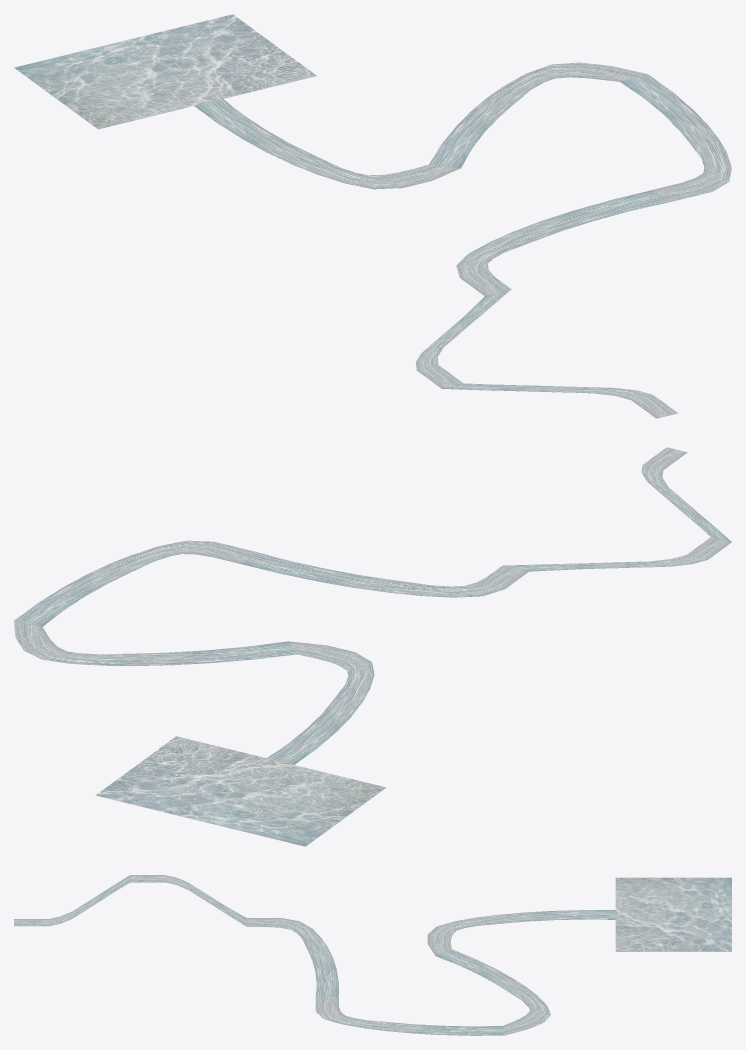
Rendered from river_2.fbx.
The picture shows the model from 3 angles, top to bottom: view 1: azimuth 30°, elevation 25°; view 2: azimuth 150°, elevation 25°; view 3: azimuth 270°, elevation 25°; orthographic projection. The views are drawn at different scales.
Visible parts, largest first — view 1: Box007, Box006, Box005, Box004, Box003, Box001, Box002; view 2: Box007, Box005, Box006, Box004, Box003, Box002, Box001; view 3: Box007, Box006, Box005, Box004, Box003, Box002, Box001.
Part boxes in pixels (left/top/right/bottom): Box007: left=14, top=14, right=316, bottom=129; Box006: left=194, top=99, right=460, bottom=189; Box005: left=429, top=62, right=647, bottom=168; Box004: left=620, top=74, right=731, bottom=202; Box003: left=456, top=190, right=668, bottom=295; Box001: left=443, top=383, right=677, bottom=418; Box002: left=415, top=290, right=510, bottom=388; Box007: left=95, top=736, right=386, bottom=846; Box005: left=14, top=620, right=296, bottom=665; Box006: left=267, top=641, right=374, bottom=764; Box004: left=14, top=540, right=255, bottom=626; Box003: left=240, top=552, right=528, bottom=597; Box002: left=505, top=537, right=731, bottom=571; Box001: left=641, top=447, right=731, bottom=541; Box007: left=615, top=877, right=731, bottom=951; Box006: left=427, top=910, right=615, bottom=955; Box005: left=436, top=949, right=550, bottom=1035; Box004: left=315, top=996, right=503, bottom=1035; Box003: left=246, top=918, right=338, bottom=996; Box002: left=130, top=875, right=246, bottom=926; Box001: left=14, top=875, right=130, bottom=926.
Bounding box in the file's own units: 32708 × 10 × 61750.
1 material, 1 textured.
